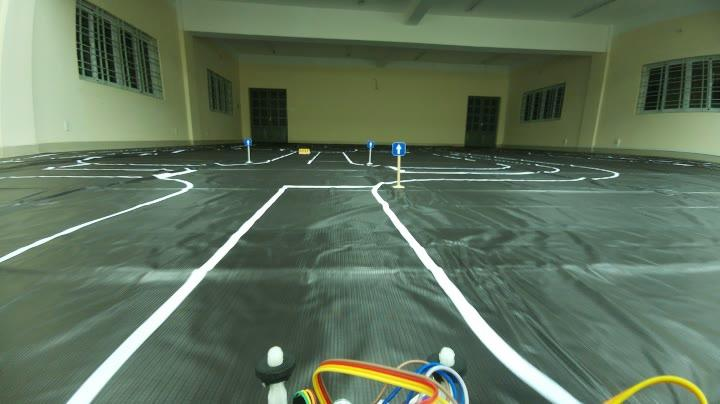onewayroad: (391, 140, 406, 160), (366, 138, 376, 150), (243, 136, 253, 148)
roadblock: (298, 144, 312, 154)
